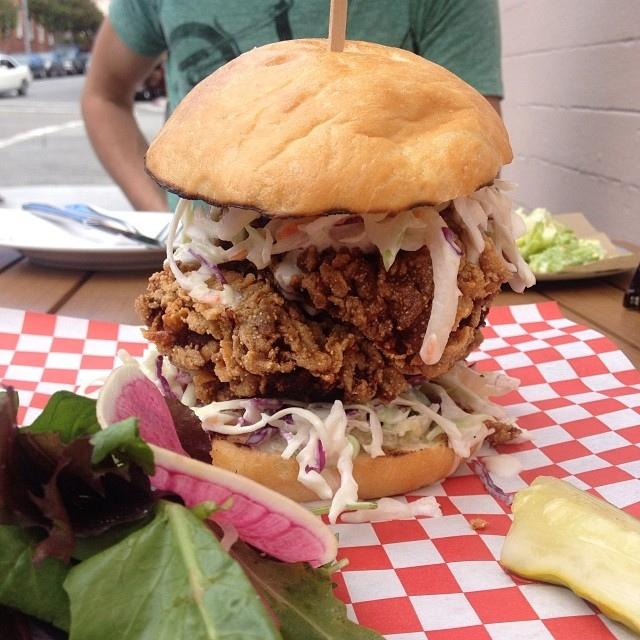lettuce: (0, 386, 185, 570), (62, 499, 284, 640), (196, 518, 378, 635), (0, 524, 72, 634), (514, 206, 608, 273), (18, 390, 102, 444), (426, 414, 498, 442), (346, 433, 360, 461)
